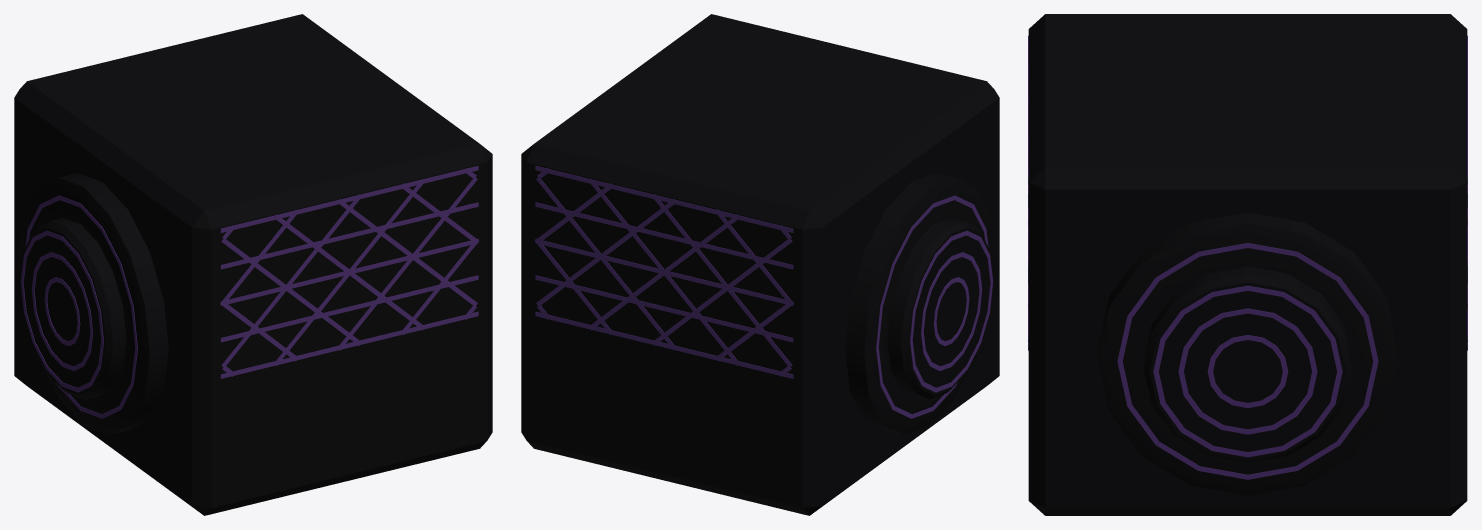
File: z5_field.obj
3 renders of one model, left to right at view 1: azimuth 30°, elevation 25°; view 2: azimuth 150°, elevation 25°; view 3: azimuth 270°, elevation 25°, orthographic. The views are drawn at different scales.
Visible parts, largest first — view 1: z5_field; view 2: z5_field; view 3: z5_field.
Boxes of the visible parts, left/top/right/bottom form: z5_field: left=14, top=14, right=492, bottom=515; z5_field: left=521, top=14, right=999, bottom=515; z5_field: left=1028, top=14, right=1467, bottom=515.
Bounding box in the file's own units: 2.42 × 1.84 × 2.11.
